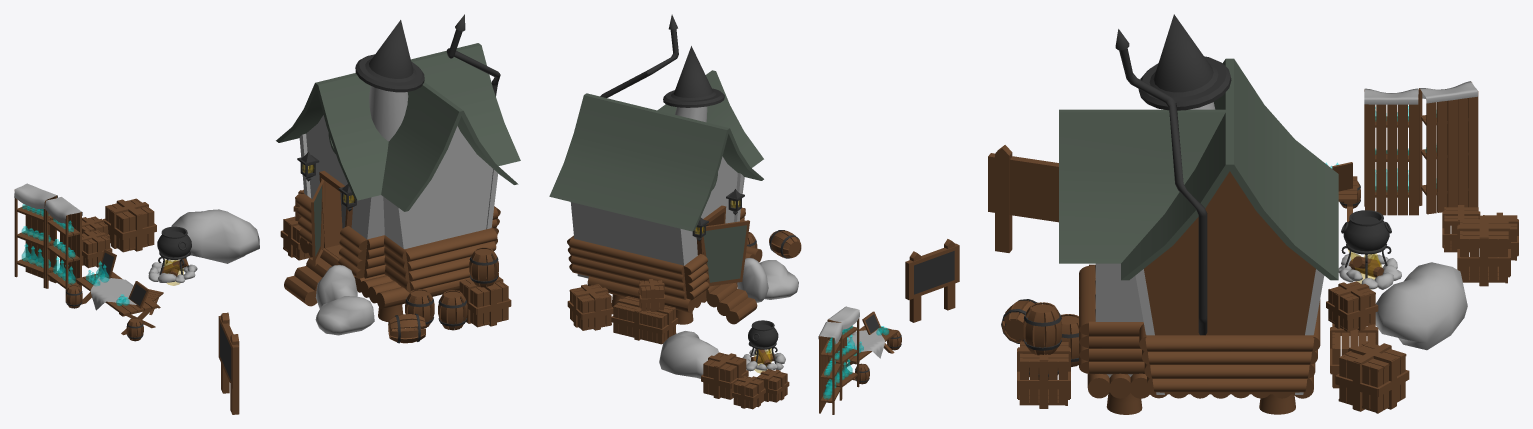
Rendered from WitchHouseScene.fbx.
The picture shows the model from 3 angles, left to right: view 1: azimuth 30°, elevation 25°; view 2: azimuth 150°, elevation 25°; view 3: azimuth 270°, elevation 25°; orthographic projection. The views are drawn at different scales.
Visible parts, largest first — view 1: pCylinder53; view 2: pCylinder53; view 3: pCylinder53.
Part boxes in pixels (x1,y1,x2,y2): pCylinder53: [14, 14, 520, 414]; pCylinder53: [549, 14, 959, 414]; pCylinder53: [988, 14, 1518, 414].
Size of the model in its own units: 17.22 by 12.9 by 15.54.
